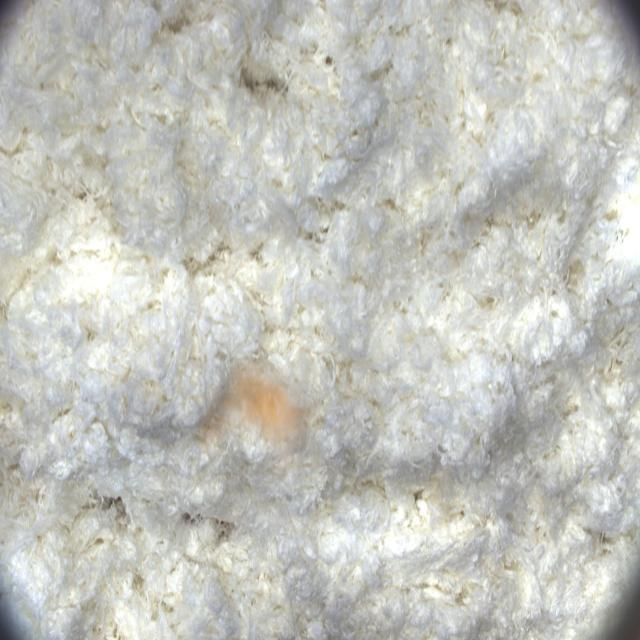dust: (199, 359, 321, 474)
